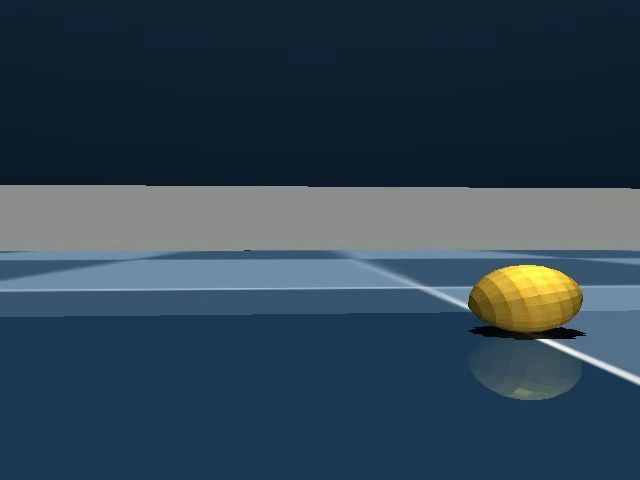lemon: (458, 258, 593, 344)
